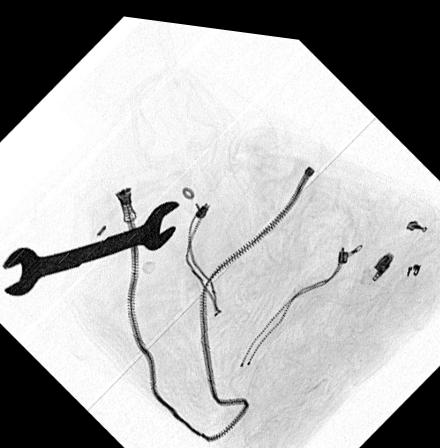Wrench: (0, 195, 179, 297)
